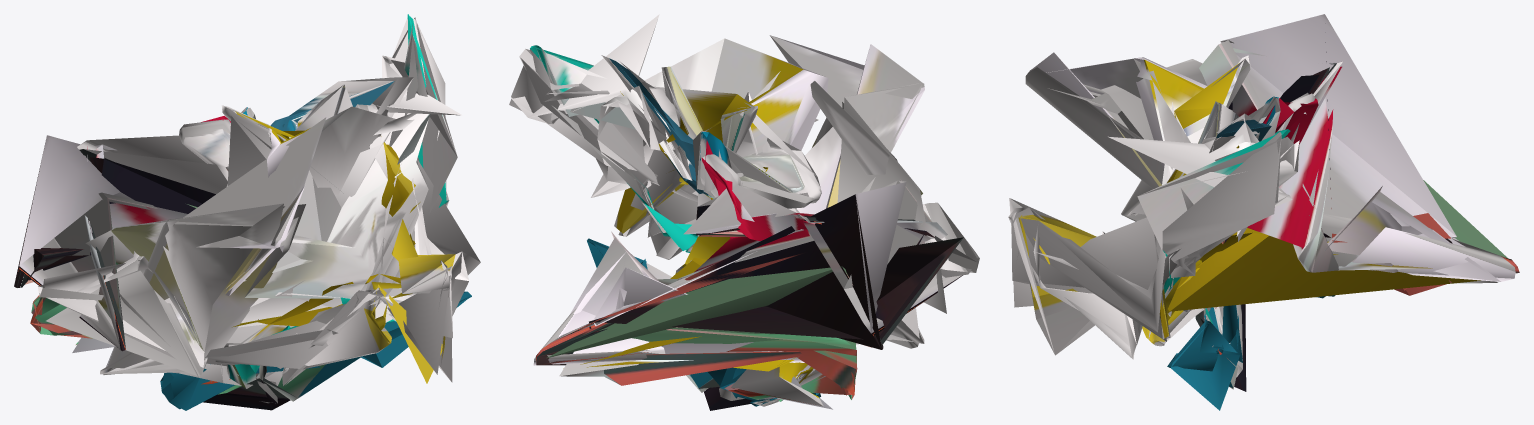
The model's file is hp-fabric.gltf.
3 views of the same model, side by side, from view 1: azimuth 30°, elevation 25°; view 2: azimuth 150°, elevation 25°; view 3: azimuth 270°, elevation 25° (orthographic).
Parts seen in each view (by area): view 1: Würfel; view 2: Würfel; view 3: Würfel.
Boxes of the visible parts, x1,y1,x2,y2 form: Würfel: (14,14,480,410); Würfel: (509,14,979,410); Würfel: (1008,14,1519,410).
Size of the model in its own units: 1230 by 918 by 1255.
1 material, 1 textured.
